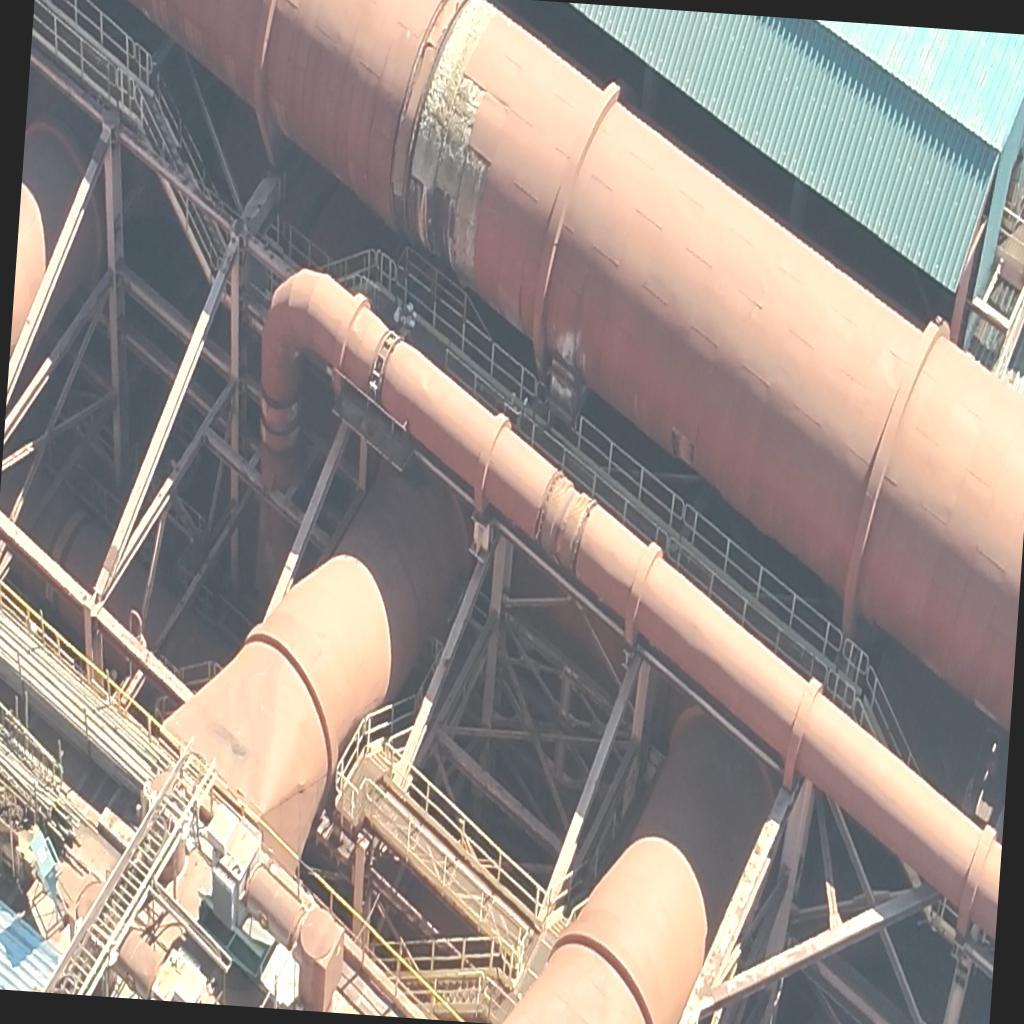Failures: (410, 0, 495, 190), (425, 68, 486, 258), (448, 148, 490, 288)
